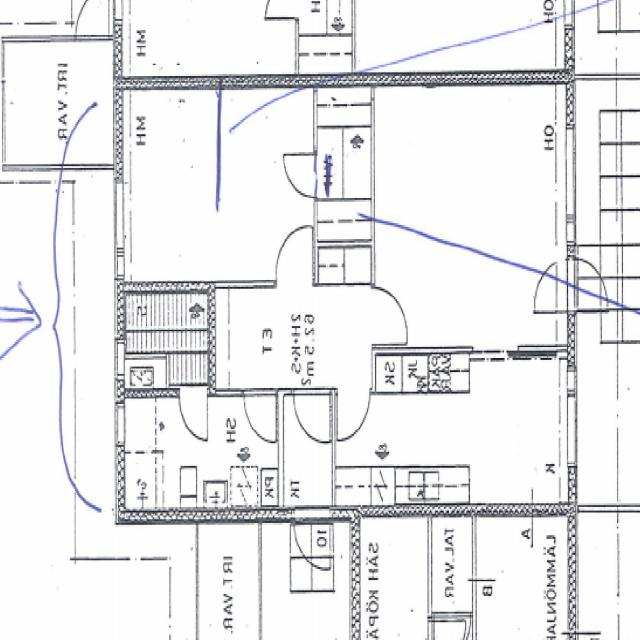door: (294, 503, 331, 573), (276, 227, 313, 289), (372, 288, 412, 344), (535, 258, 578, 310), (294, 389, 330, 451), (570, 258, 612, 310), (337, 389, 370, 446), (244, 389, 276, 446), (179, 388, 207, 440)
